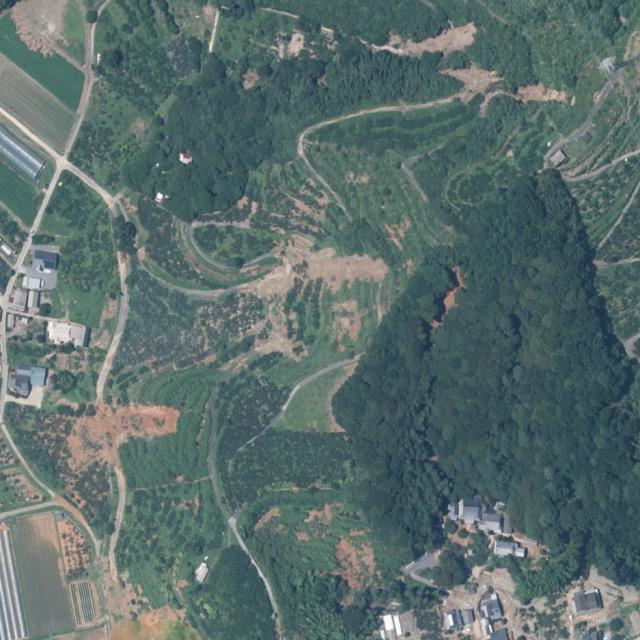landslide: (247, 237, 389, 299)
